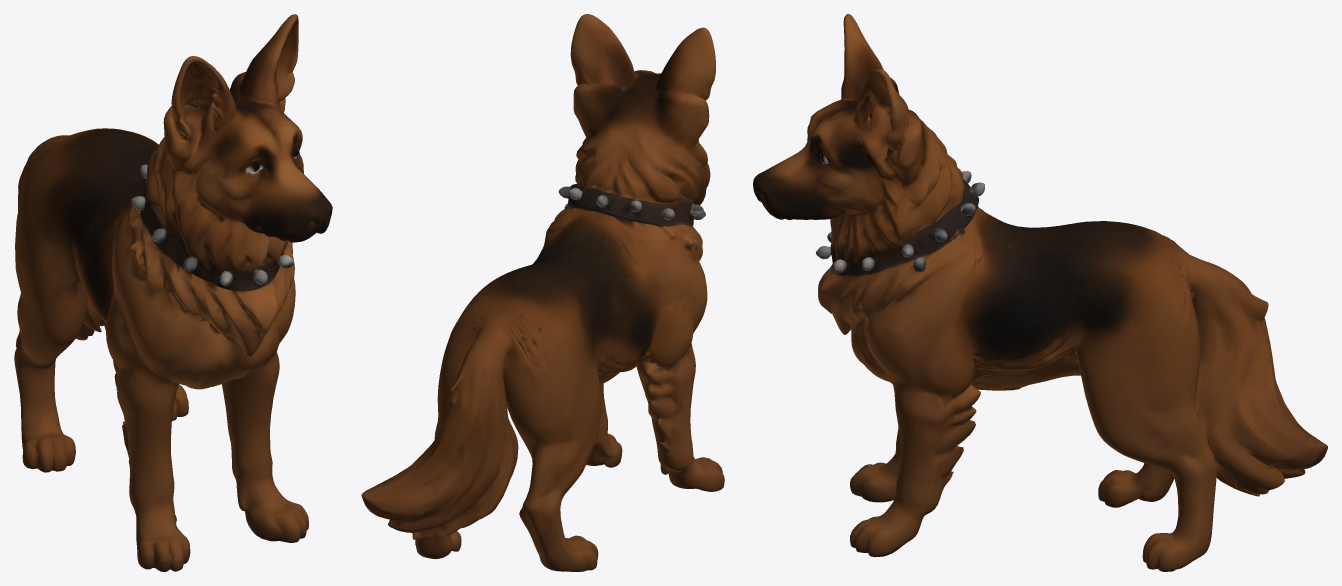
Rendered from detail_5.glb.
The picture shows the model from 3 angles, left to right: view 1: azimuth 30°, elevation 25°; view 2: azimuth 150°, elevation 25°; view 3: azimuth 270°, elevation 25°; orthographic projection. The views are drawn at different scales.
Bounding box in the file's own units: 0.3776 × 0.9298 × 1.
Materials: 1 (1 with a texture image).
